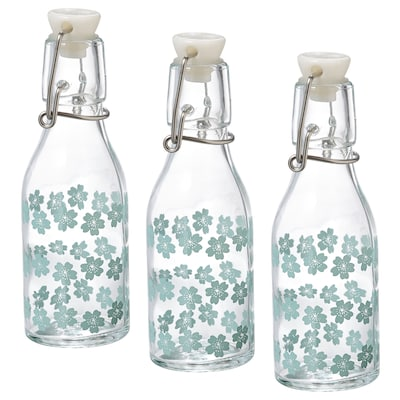glass_bottle: (265, 48, 383, 393), (17, 5, 135, 348), (143, 28, 258, 374)
